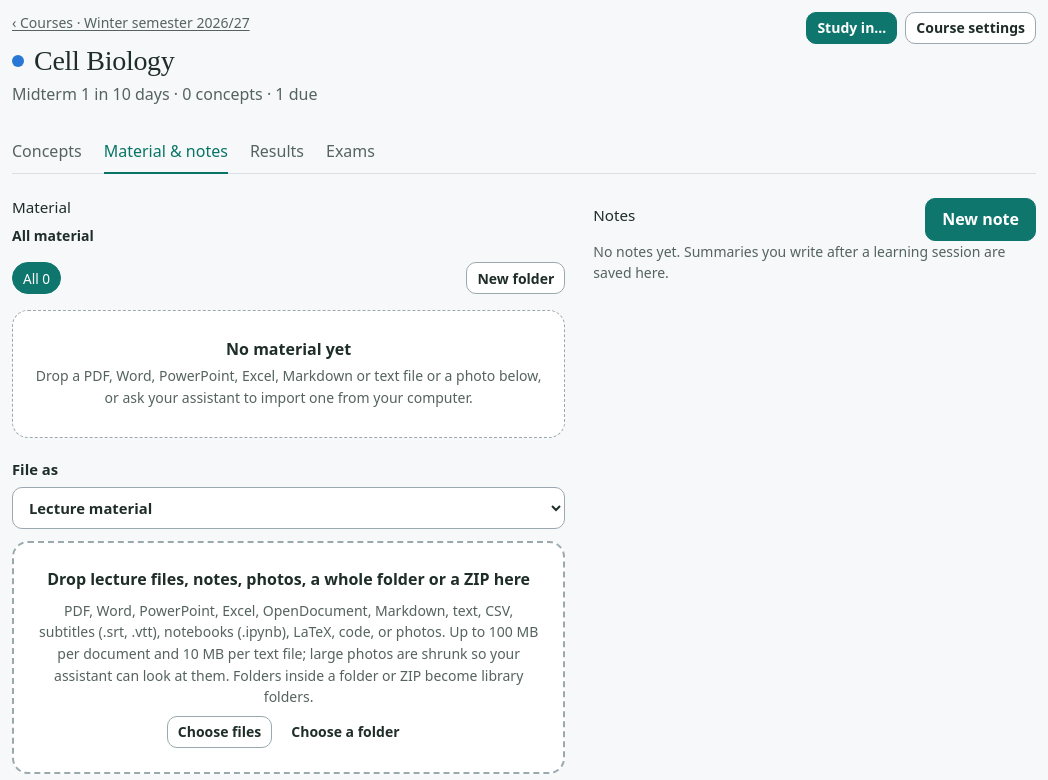
Test: Courses as drawn (2026-11-27) › opens a course with four tabs; old links land on the tab that holds them now
Expected: the links read "Concepts", "Material & notes", "Results", "Exams", in this order, [12,140,82,162]; [104,131,228,174]; [250,140,304,162]; [326,140,375,162]
Expected: the heading "Material" is shown, [12,197,71,217]
Click the button "Course settings" at (971, 28), box [905,12,1036,44]
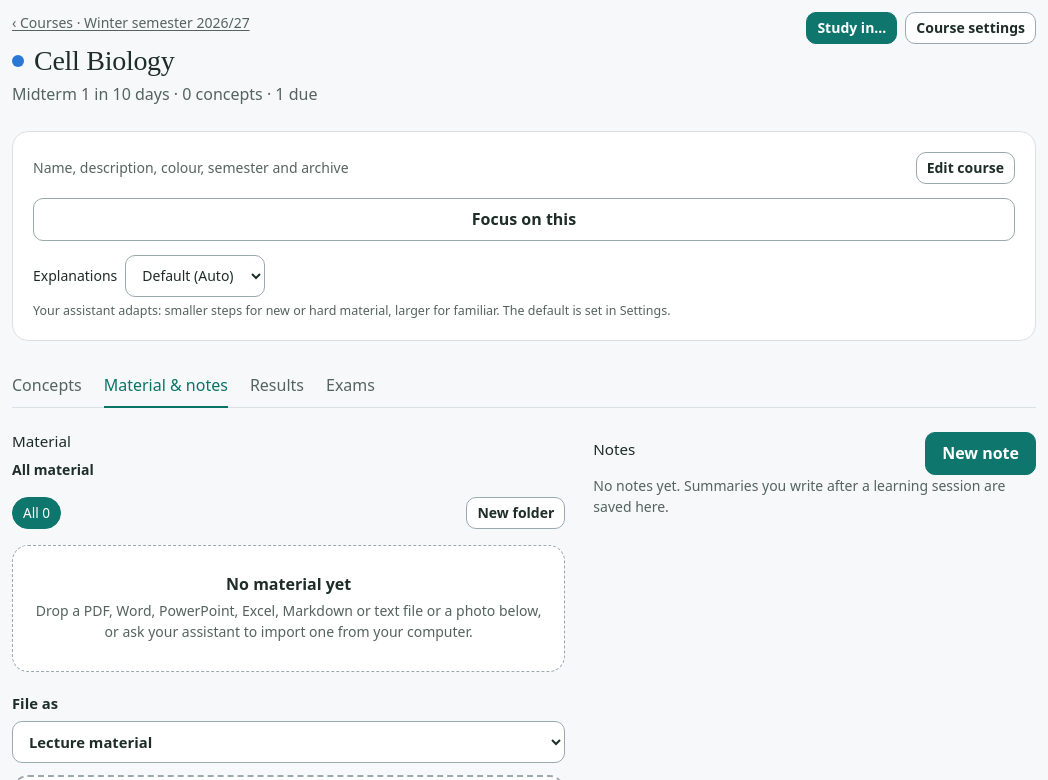
Expected: the button "Edit course" is shown, [916,152,1015,184]
